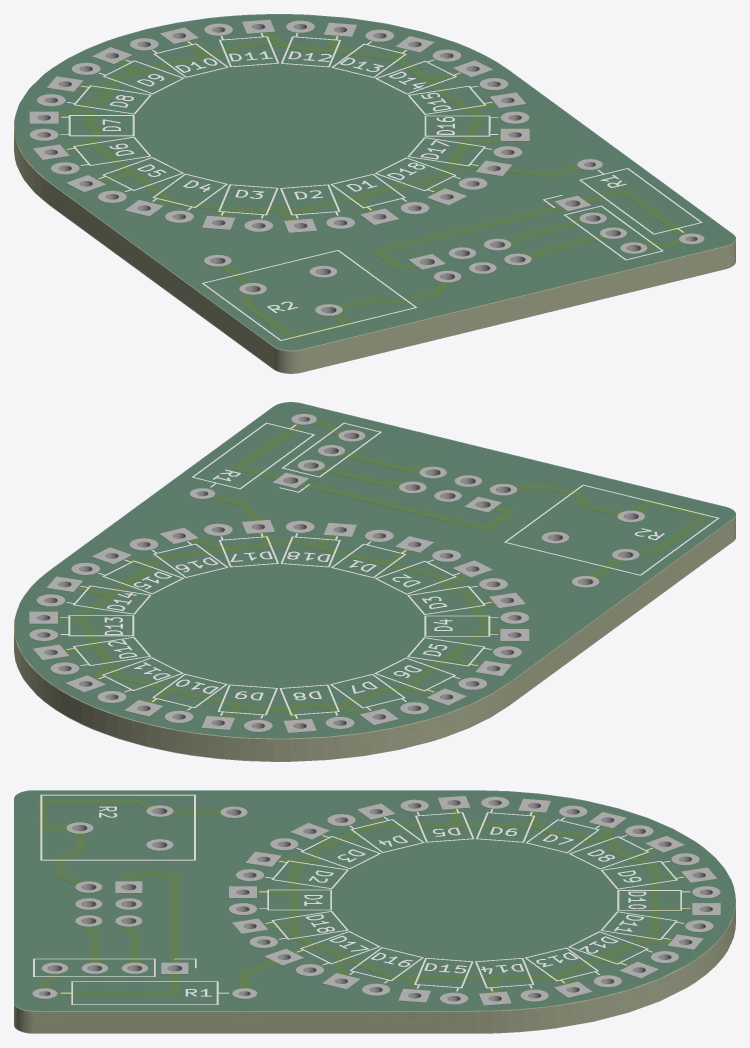
Rendered from sao-infinity-mirror.glb.
3 views of the same model, one above another, from view 1: azimuth 30°, elevation 25°; view 2: azimuth 150°, elevation 25°; view 3: azimuth 270°, elevation 25° (orthographic).
Parts seen in each view (by area): view 1: =>[0:1:1:6], =>[0:1:1:8], =>[0:1:1:2], =>[0:1:1:4]; view 2: =>[0:1:1:6], =>[0:1:1:8], =>[0:1:1:2], =>[0:1:1:4]; view 3: =>[0:1:1:6], =>[0:1:1:8], =>[0:1:1:2], =>[0:1:1:4].
Boxes of the visible parts, x1=… form: =>[0:1:1:6]: x1=14, y1=14, x2=735, y2=373; =>[0:1:1:8]: x1=14, y1=15, x2=735, y2=373; =>[0:1:1:2]: x1=29, y1=19, x2=704, y2=339; =>[0:1:1:4]: x1=60, y1=33, x2=702, y2=340; =>[0:1:1:6]: x1=14, y1=402, x2=735, y2=761; =>[0:1:1:8]: x1=14, y1=403, x2=735, y2=761; =>[0:1:1:2]: x1=29, y1=414, x2=708, y2=732; =>[0:1:1:4]: x1=60, y1=422, x2=719, y2=718; =>[0:1:1:6]: x1=14, y1=790, x2=735, y2=1033; =>[0:1:1:8]: x1=14, y1=791, x2=735, y2=1032; =>[0:1:1:2]: x1=32, y1=796, x2=720, y2=1005; =>[0:1:1:4]: x1=33, y1=794, x2=690, y2=1004.
Bounding box in the file's own units: 0.0332 × 0.00166 × 0.0459.
4 materials, 4 textured.
